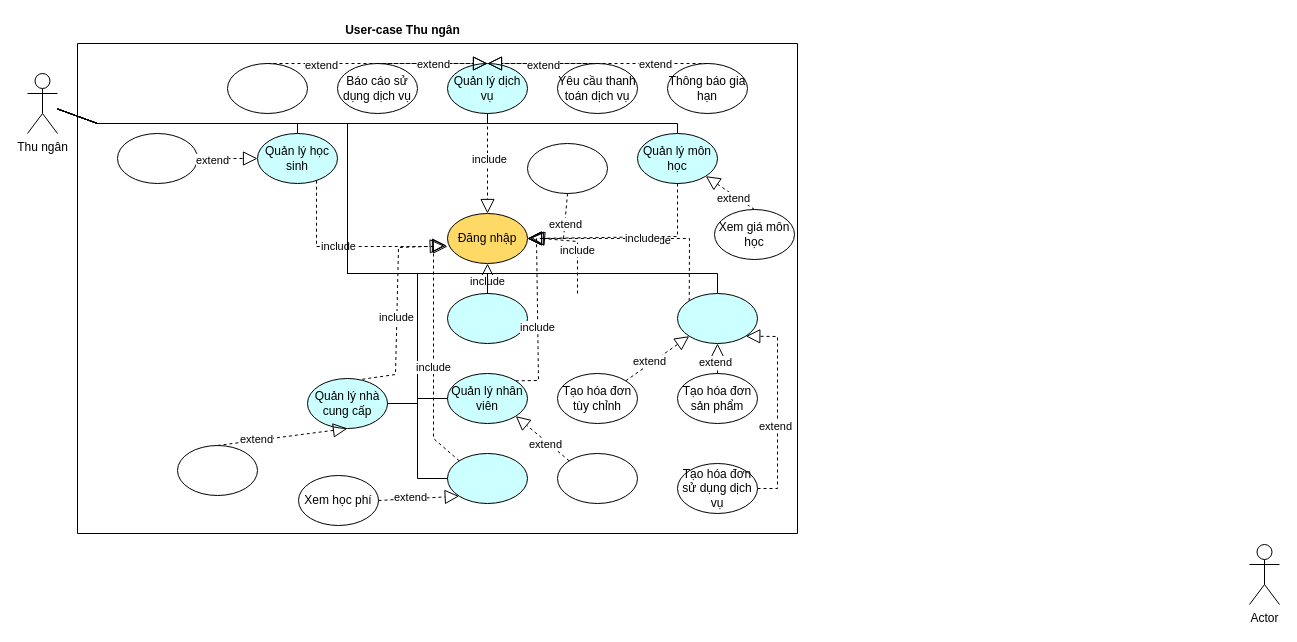
This 1297x642 diagram has some shape labels left out. Here are the shapes that lost their labels. From the top down, the box of each, then its label:
(226, 62, 308, 114): Cảnh báo hủy dịch vụ
(116, 132, 198, 184): Liên lạc với phụ huynh
(526, 142, 608, 194): Quên mật khẩu
(446, 292, 528, 344): Quản lý sản phẩm
(676, 292, 758, 344): Quản lý hóa đơn
(176, 444, 258, 496): Liên lạc với nhà cung cấp
(446, 452, 528, 504): Quản lý lớp học
(556, 452, 638, 504): Liên lạc với nhân viên
